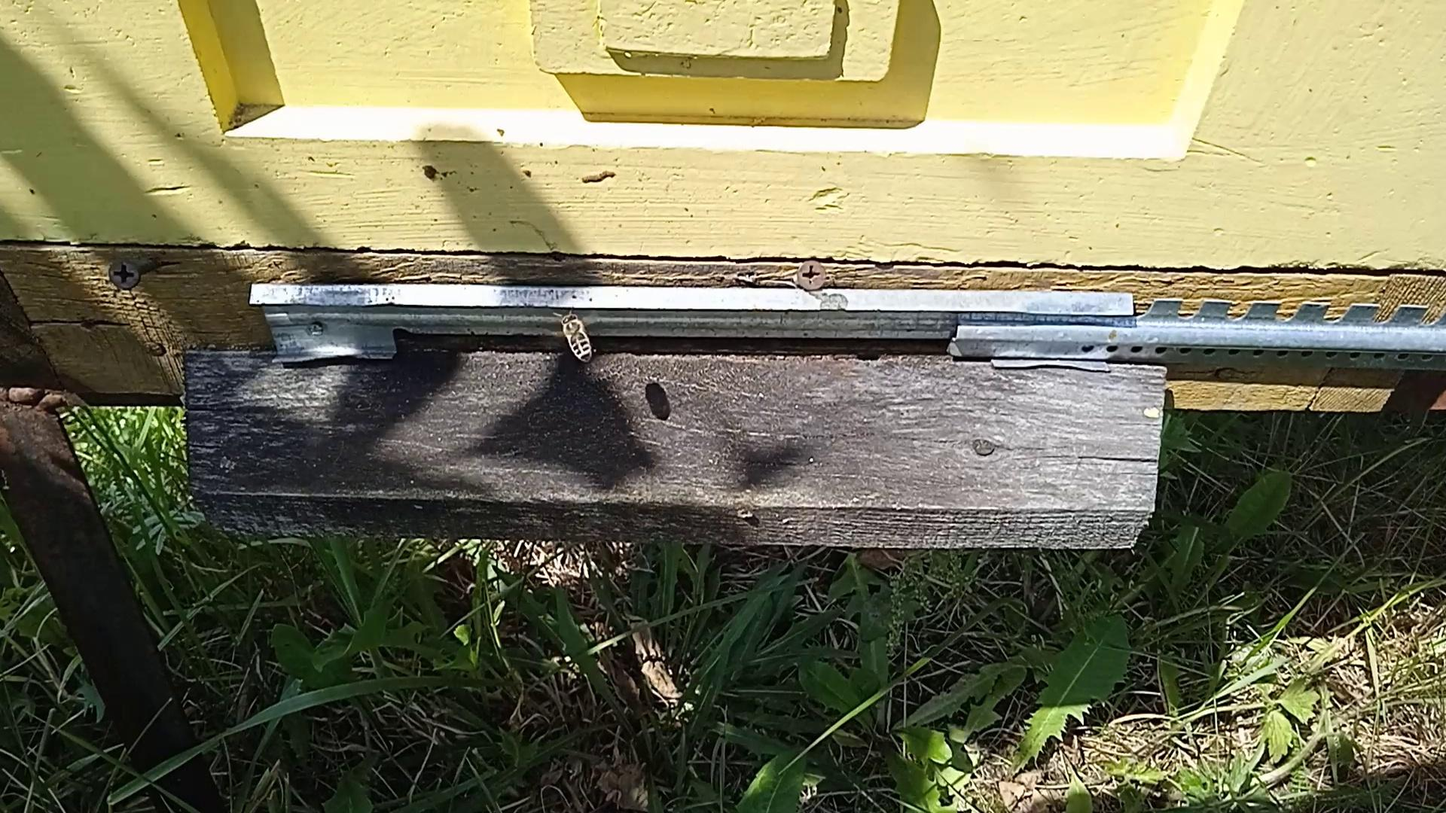worker-bee: (559, 312, 595, 362)
